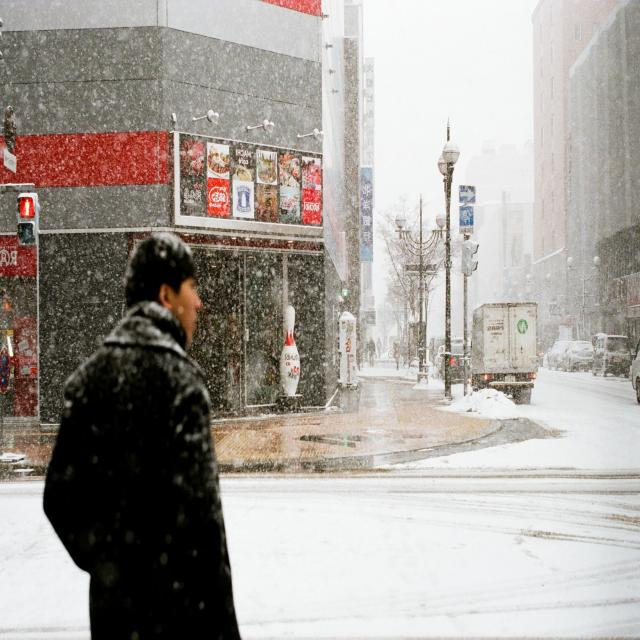adult: (41, 235, 241, 640)
